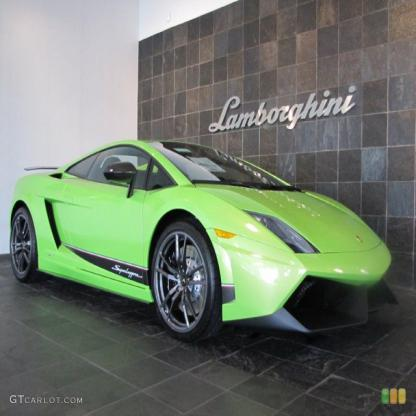Vehicle: (8, 138, 405, 348)
